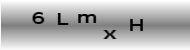6: (31, 11, 47, 26)
H: (128, 17, 145, 33)
L: (56, 12, 70, 27)
m: (76, 12, 98, 24)
x: (102, 27, 118, 40)
